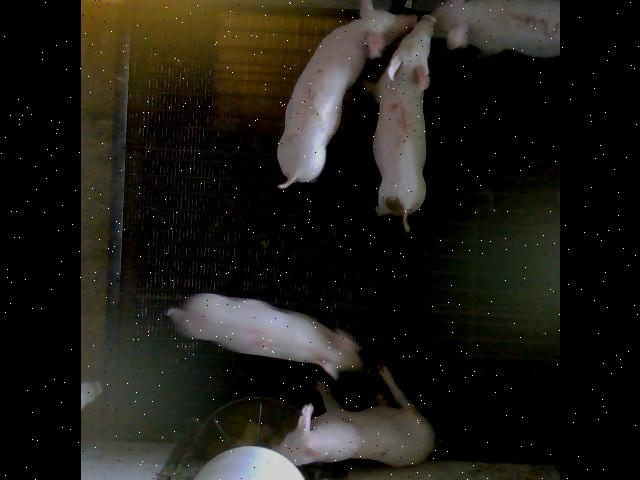pig-3: (432, 0, 560, 58)
pig-4: (167, 294, 361, 379)
pig-5: (364, 16, 434, 231)
